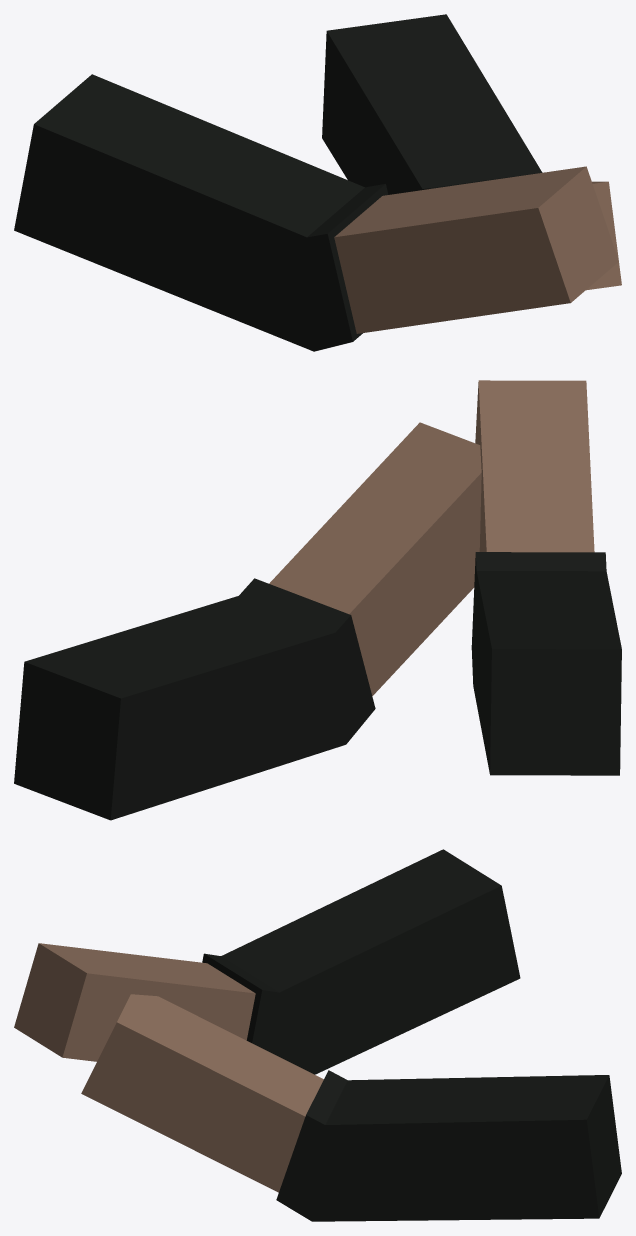
File: arm.obj
3 views of the same model, one above another, from view 1: azimuth 30°, elevation 25°; view 2: azimuth 150°, elevation 25°; view 3: azimuth 270°, elevation 25° (orthographic). The views are drawn at different scales.
Visible parts, largest first — view 1: Cube_Cube.000, Cube_Cube.001_Cube_Cube.002; view 2: Cube_Cube.001_Cube_Cube.002, Cube_Cube.000; view 3: Cube_Cube.001_Cube_Cube.002, Cube_Cube.000.
Part boxes in pixels (x1=…): Cube_Cube.000: x1=14, y1=74, x2=618, y2=351; Cube_Cube.001_Cube_Cube.002: x1=322, y1=14, x2=621, y2=290; Cube_Cube.001_Cube_Cube.002: x1=14, y1=422, x2=481, y2=820; Cube_Cube.000: x1=471, y1=380, x2=621, y2=775; Cube_Cube.001_Cube_Cube.002: x1=81, y1=994, x2=621, y2=1221; Cube_Cube.000: x1=14, y1=849, x2=520, y2=1074.
Bounding box in the file's own units: 4.71 × 2.16 × 5.67.
